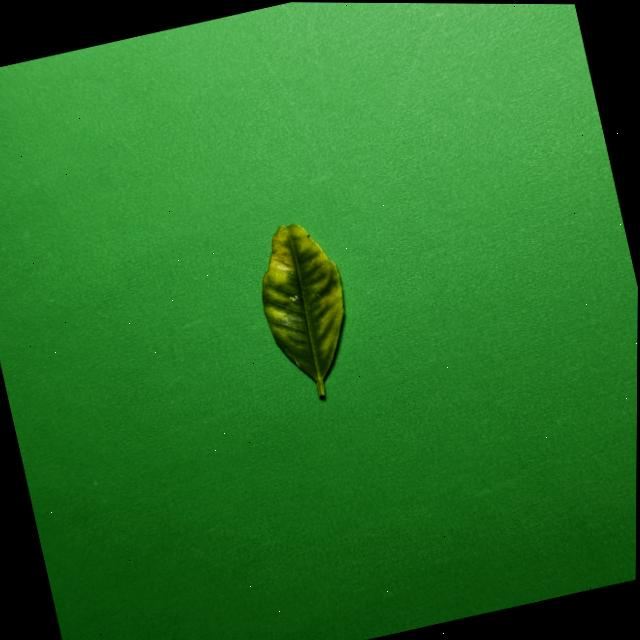greening: (261, 223, 342, 396)
